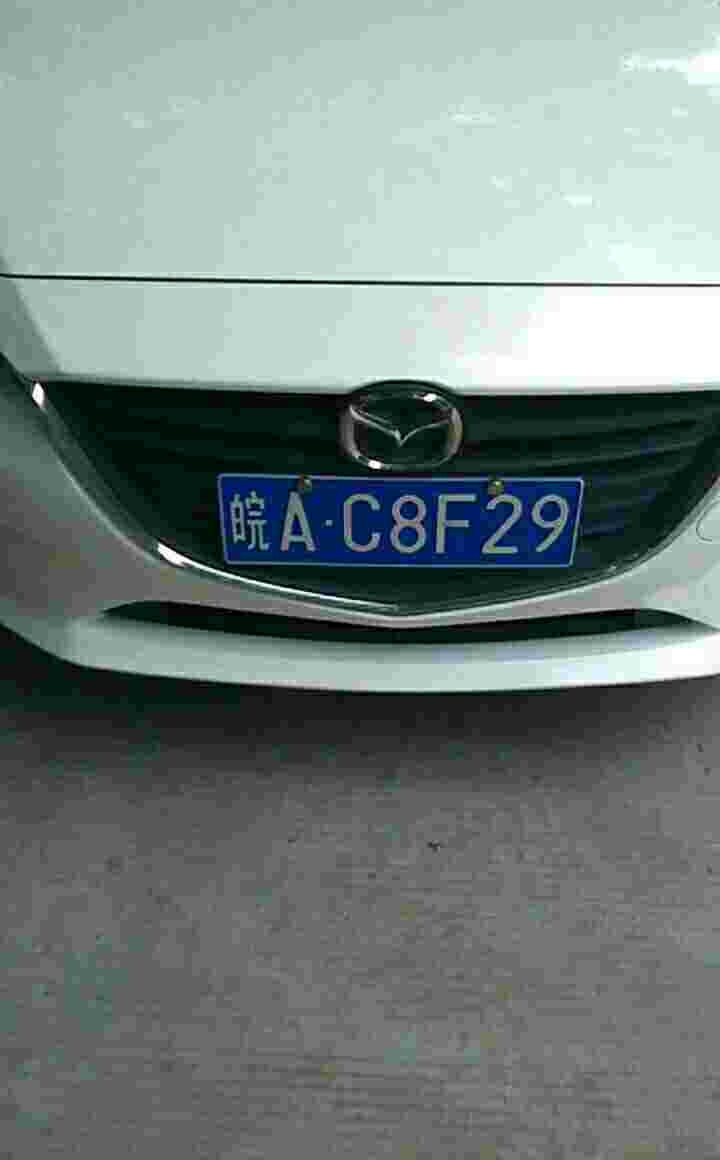license_plate: (224, 470, 567, 567)
